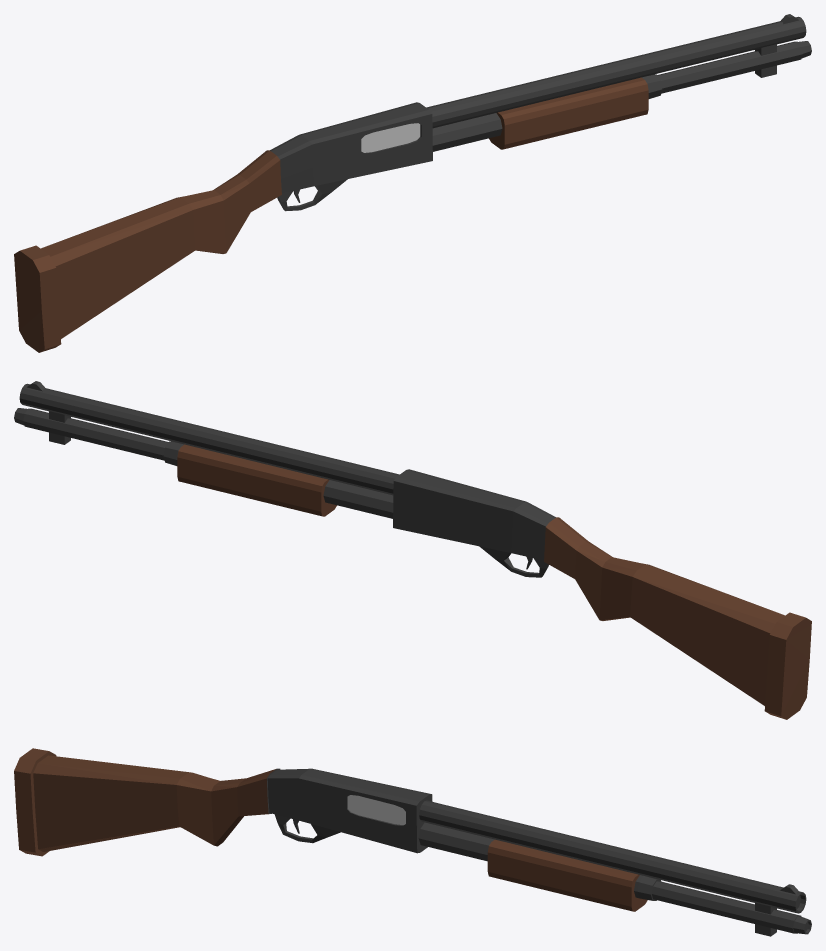
File: Shotgun-f54ZSBZZ8k.glb
The picture shows the model from 3 angles, top to bottom: view 1: azimuth 30°, elevation 25°; view 2: azimuth 150°, elevation 25°; view 3: azimuth 330°, elevation 25°; orthographic projection.
Visible parts, largest first — view 1: Shotgun_01_Cylinder.001; view 2: Shotgun_01_Cylinder.001; view 3: Shotgun_01_Cylinder.001.
Part boxes in pixels (x1,y1,x2,y2): Shotgun_01_Cylinder.001: (14, 14, 811, 352); Shotgun_01_Cylinder.001: (14, 381, 811, 719); Shotgun_01_Cylinder.001: (14, 748, 811, 936).
Size of the model in its own units: 4.91 by 0.8858 by 0.2795.
